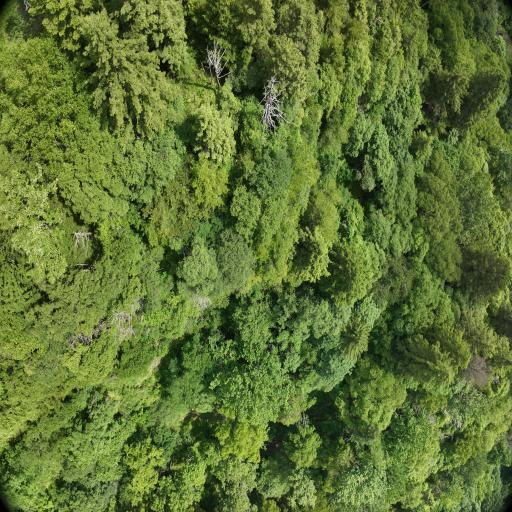dead-tree: (258, 71, 287, 133), (425, 407, 464, 446), (200, 39, 226, 90), (103, 302, 138, 337), (70, 226, 95, 251)
sick-tree: (453, 354, 500, 396)
